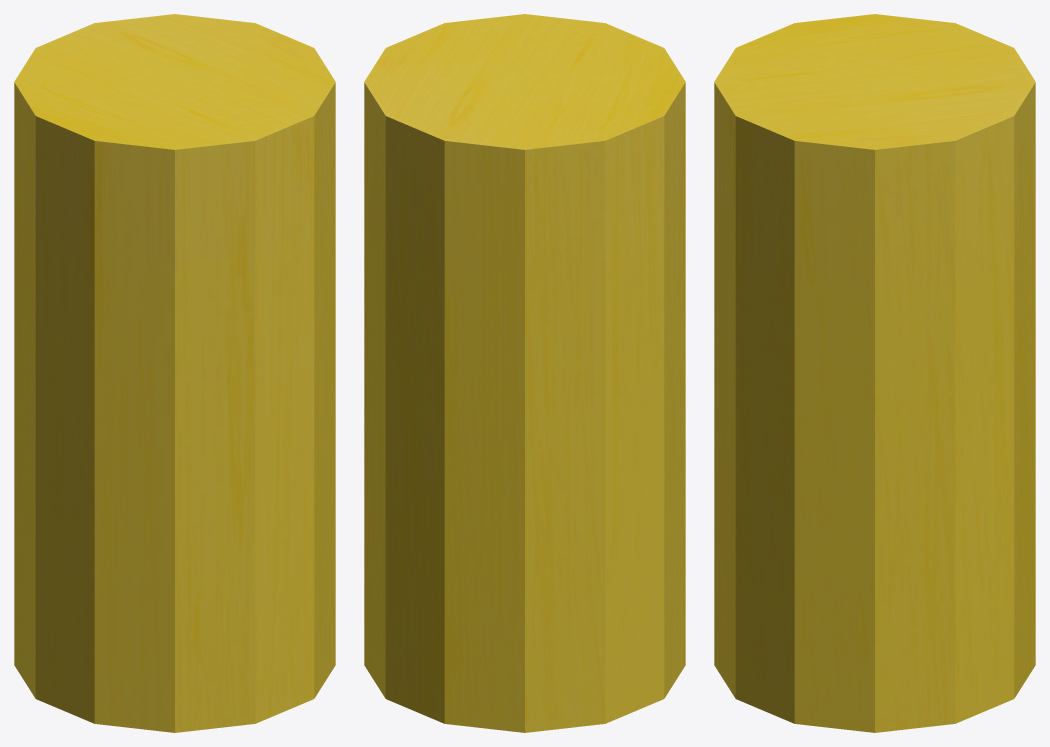
The model's file is CylinderBlock_Yellow.fbx.
The picture shows the model from 3 angles, left to right: view 1: azimuth 30°, elevation 25°; view 2: azimuth 150°, elevation 25°; view 3: azimuth 270°, elevation 25°; orthographic projection.
Parts seen in each view (by area): view 1: Cylinder.009; view 2: Cylinder.009; view 3: Cylinder.009.
Part boxes in pixels (x1,y1,x2,y2): Cylinder.009: (14,14,335,732); Cylinder.009: (364,14,685,732); Cylinder.009: (714,14,1035,732).
Bounding box in the file's own units: 100 × 200 × 100.
